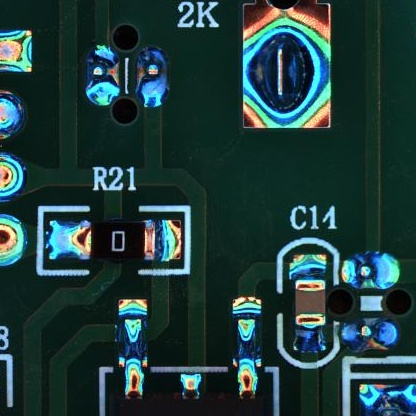spot: (83, 44, 121, 107), (341, 315, 399, 356), (135, 45, 171, 109), (342, 251, 401, 289)
